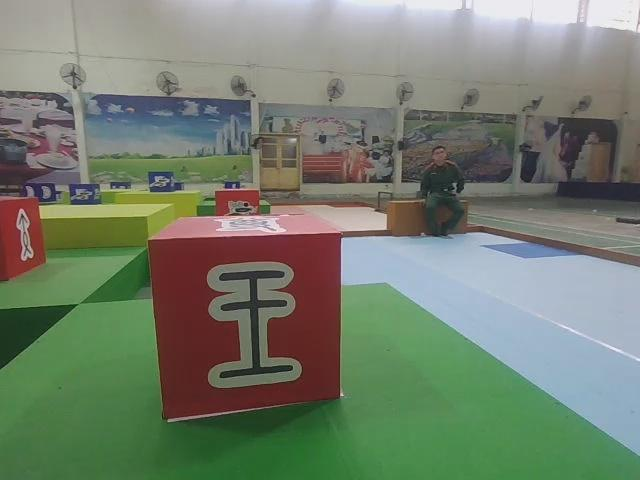R2 Fake: (147, 215, 343, 419)
R2 Real: (0, 192, 50, 284)
